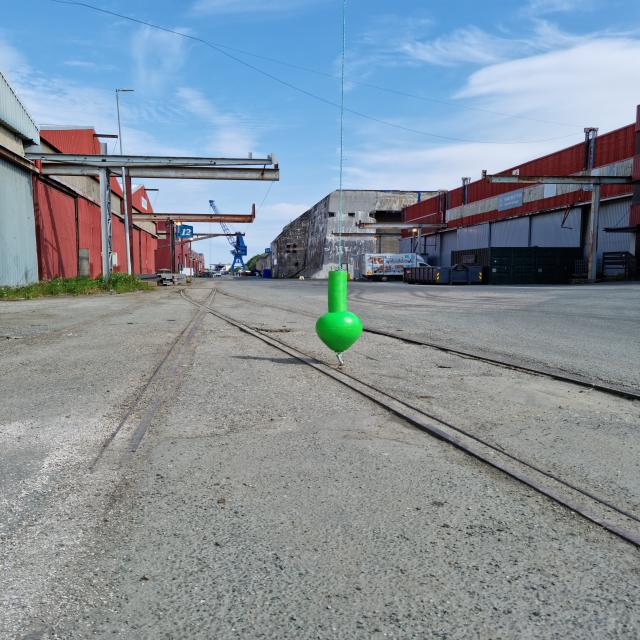green: (316, 270, 364, 352)
